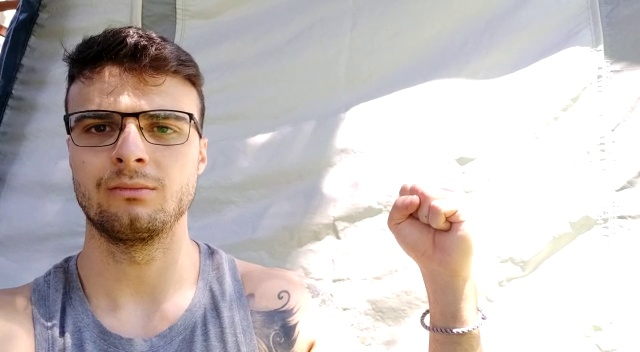Fist: (386, 178, 482, 269)
